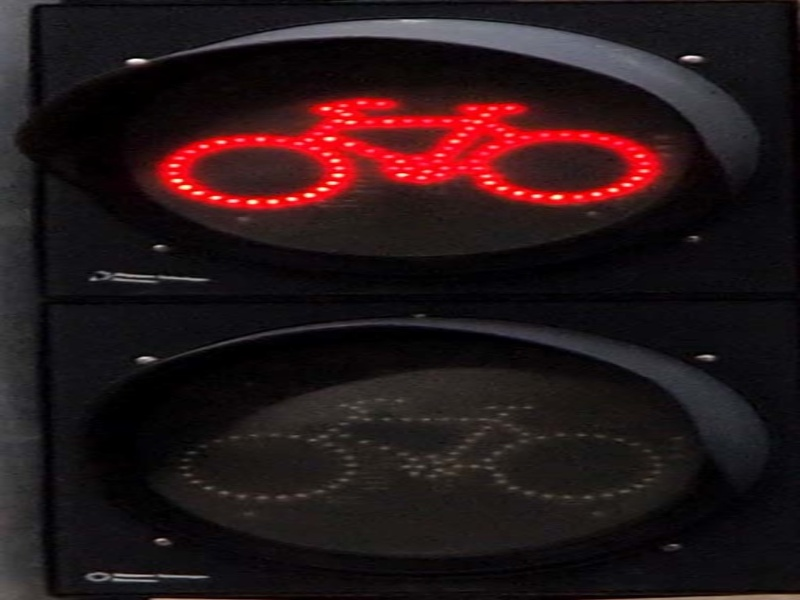no_cycle: (146, 69, 672, 229)
